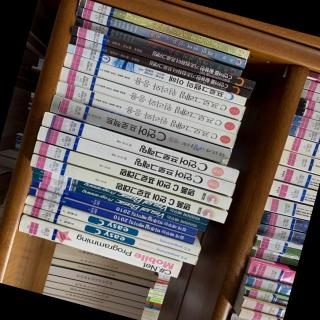book-spine: (40, 112, 238, 184), (36, 126, 234, 197), (33, 140, 231, 211), (29, 154, 227, 223), (49, 95, 231, 165), (62, 52, 245, 121), (57, 66, 240, 135), (69, 24, 255, 91), (54, 81, 236, 149), (68, 35, 251, 98), (66, 43, 246, 105), (24, 195, 200, 257), (30, 172, 206, 232), (22, 205, 197, 265), (75, 7, 246, 68), (16, 215, 181, 278), (77, 0, 249, 59), (31, 167, 208, 224), (74, 18, 242, 77), (27, 187, 194, 244), (29, 180, 197, 236)
